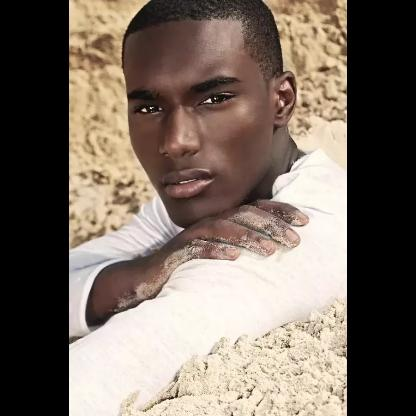Male: (123, 21, 295, 225)
